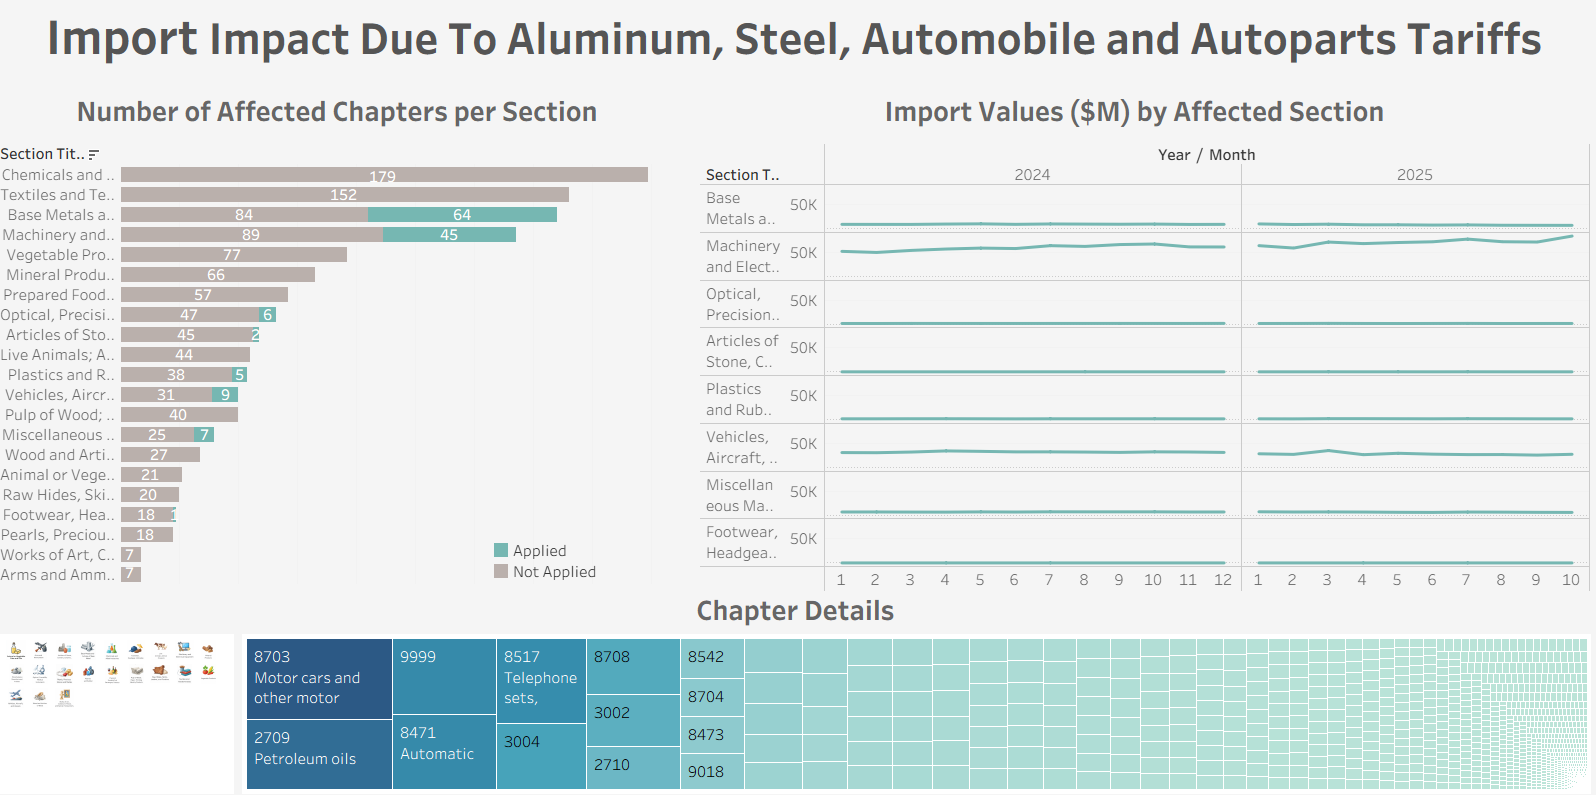

What the dashboard file says about the page in this screenshot:
{"tool":"tableau","page":{"name":"Impacts: Products","canvas":[1000,1000],"units":"permille","ordinal":2},"visuals":[{"type":"text","box":[1.6,2.2,996.1,94.2]},{"type":"text","box":[1.6,119,531.2,40]},{"type":"text","box":[532.8,119,465.6,40]},{"type":"worksheet","title":"Imp_Prod: Sections","mark":"Bar","rows":["Section Title"],"cols":["Tariff"],"box":[0.8,181.8,546.9,543.3]},{"type":"worksheet","title":"Imp_Prod: HS","mark":"Line","rows":["Section Title","fobvalue"],"cols":["Year","Month"],"box":[547.7,181.8,451.4,543.3]},{"type":"legend","title":"Imp_Prod: Sections","param":"[federated.0itw6t31pglb0g1c5mcft132owkg].[none:Tariff:nk]","box":[344.5,598.5,201.6,62.8]},{"type":"text","box":[1.6,727.3,997.7,34.6]},{"type":"worksheet","title":"Imp_Prod: Images","mark":"Shape","box":[1.6,761.9,164.1,241.3]},{"type":"worksheet","title":"Over_Prod: Detail1","mark":"Automatic","box":[165.6,761.9,833.6,241.3]}]}

Visuals, with their boxes on the dashboard's canvas, which has no fixed pixel size, in thousandths of its width and height (x1, y1, x2, y2). These are canvas units, not pixel positions in the 1596x795 screenshot, which may show the page scaled, cropped or inside an application window:
text: pyautogui.locateOnScreen(2, 2, 998, 96)
text: pyautogui.locateOnScreen(2, 119, 533, 159)
text: pyautogui.locateOnScreen(533, 119, 998, 159)
"Imp_Prod: Sections" worksheet (Bar marks): pyautogui.locateOnScreen(1, 182, 548, 725)
"Imp_Prod: HS" worksheet (Line marks): pyautogui.locateOnScreen(548, 182, 999, 725)
"Imp_Prod: Sections" legend: pyautogui.locateOnScreen(344, 598, 546, 661)
text: pyautogui.locateOnScreen(2, 727, 999, 762)
"Imp_Prod: Images" worksheet (Shape marks): pyautogui.locateOnScreen(2, 762, 166, 1003)
"Over_Prod: Detail1" worksheet: pyautogui.locateOnScreen(166, 762, 999, 1003)
